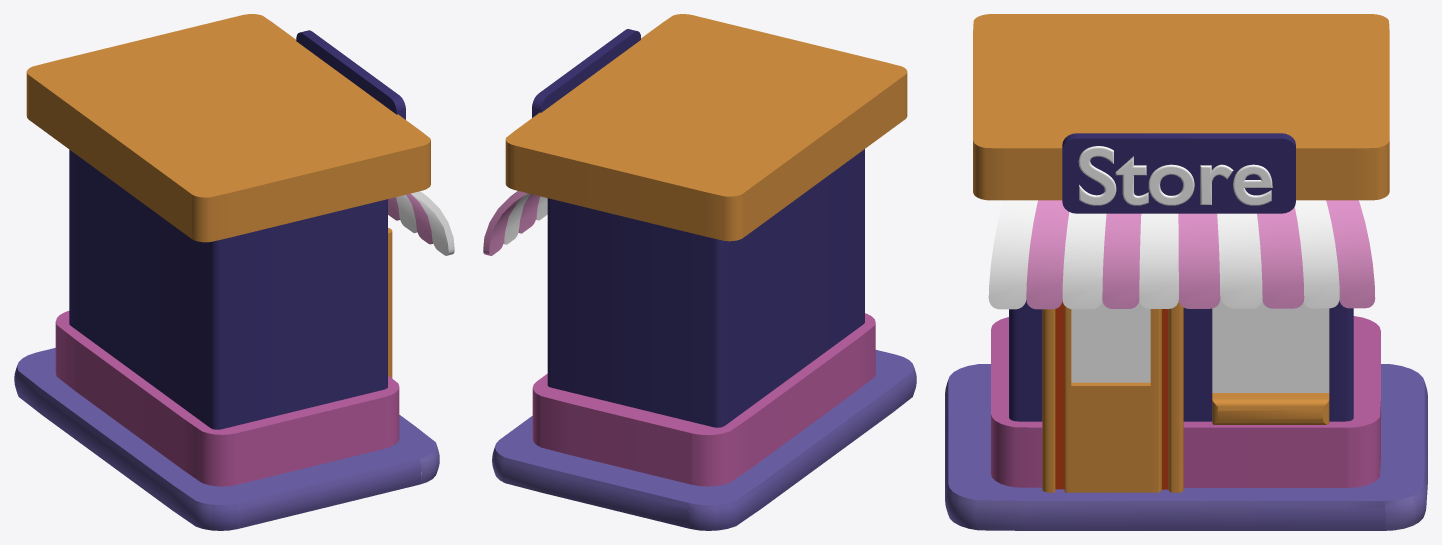
3 renders of one model, left to right at view 1: azimuth 30°, elevation 25°; view 2: azimuth 150°, elevation 25°; view 3: azimuth 270°, elevation 25°, orthographic. The views are drawn at different scales.
Visible parts, largest first — view 1: Store; view 2: Store; view 3: Store.
Part boxes in pixels (bbox=[...]): Store: bbox=[14, 14, 454, 530]; Store: bbox=[483, 14, 916, 530]; Store: bbox=[945, 14, 1427, 530].
Size of the model in its own units: 307 by 374 by 413.
